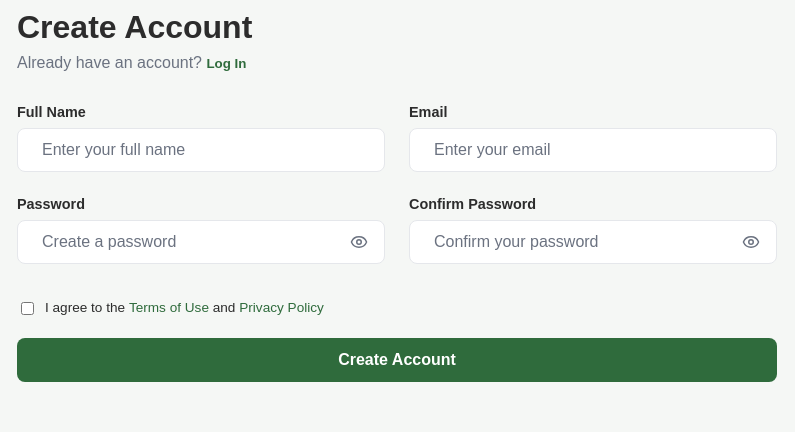
RegisterForm › shows an error when the password is shorter than 8 characters
In the field labelled "Full Name": [201, 150] box [30, 129, 372, 171], type "Anna Andersson"
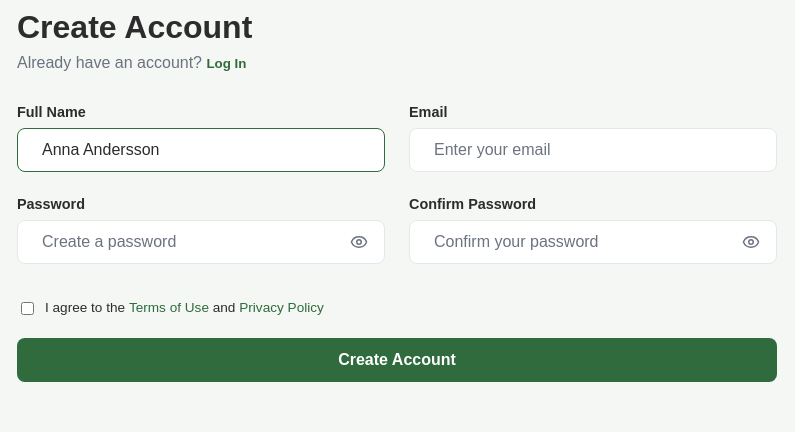
In the field labelled "Email": [593, 150] box [422, 129, 764, 171], type "anna@example.com"
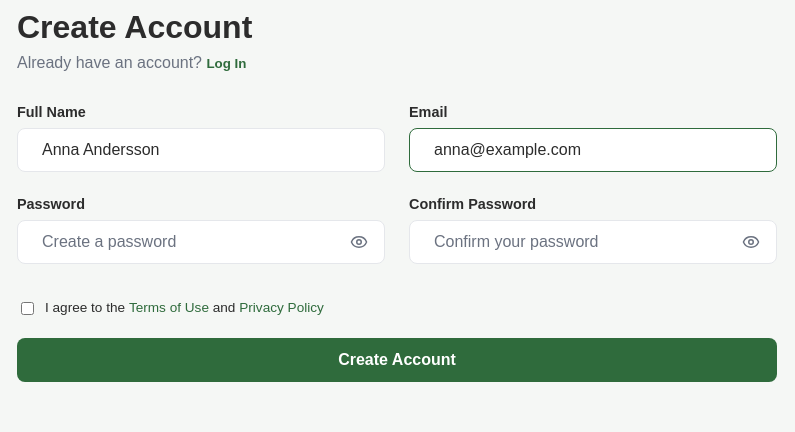
In the password field labelled "Password": [188, 242] box [30, 221, 346, 263], type "short"
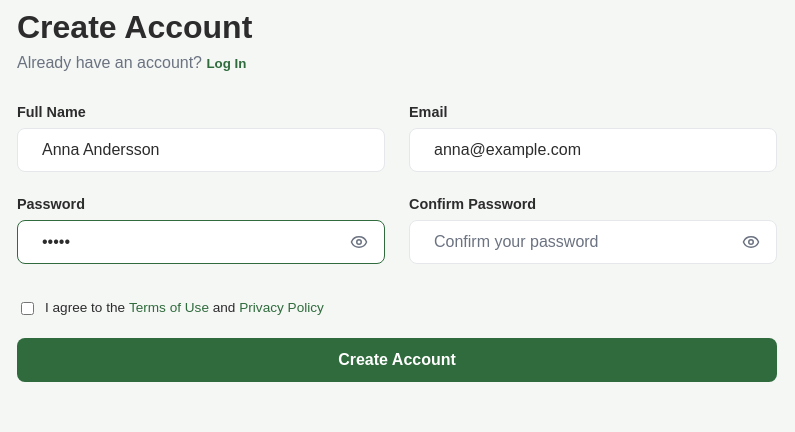
In the password field labelled "Confirm Password": [580, 242] box [422, 221, 738, 263], type "short"
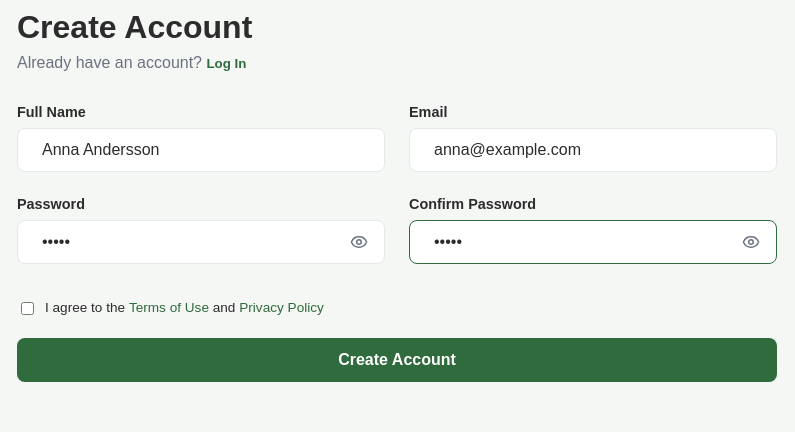
Click the checkbox: [28, 308] box [21, 302, 34, 315]
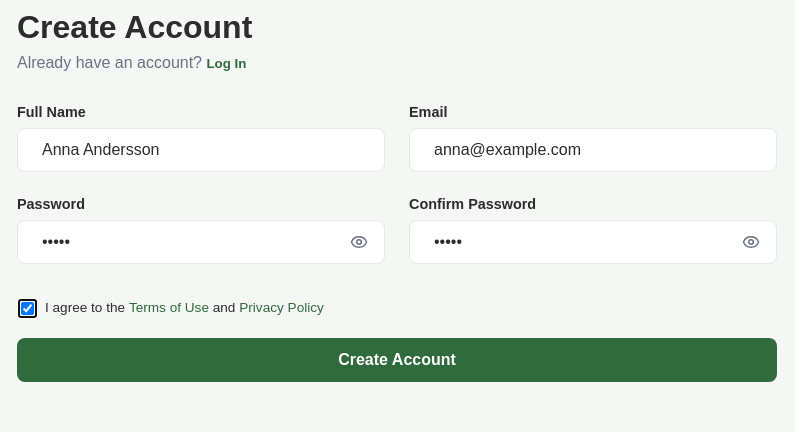
Click the button "Create Account": [397, 360] box [17, 338, 777, 382]
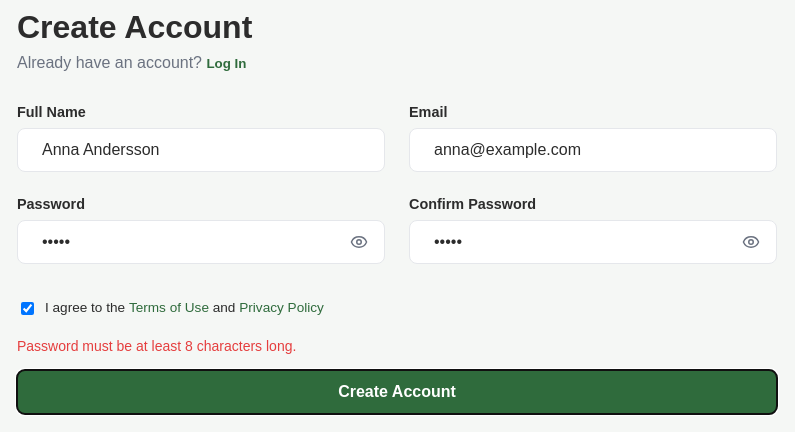
Expected: the text "Password must be at least 8 characters long." is shown, [17, 338, 296, 354]
